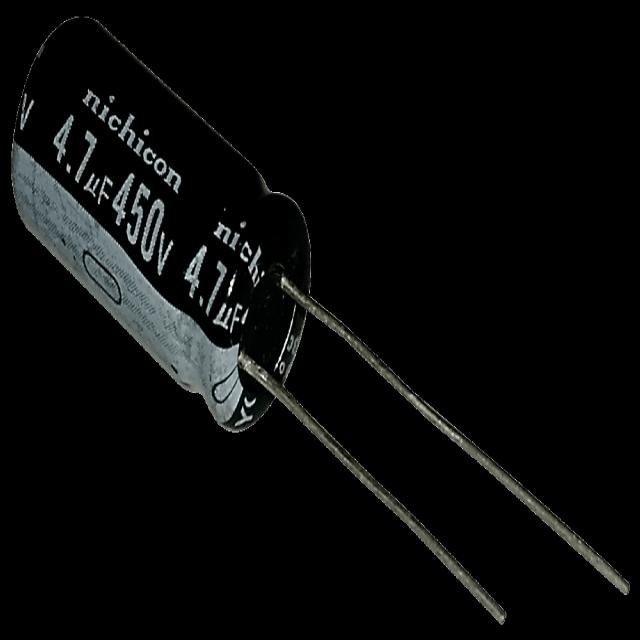Capacitor: (11, 15, 634, 630)
